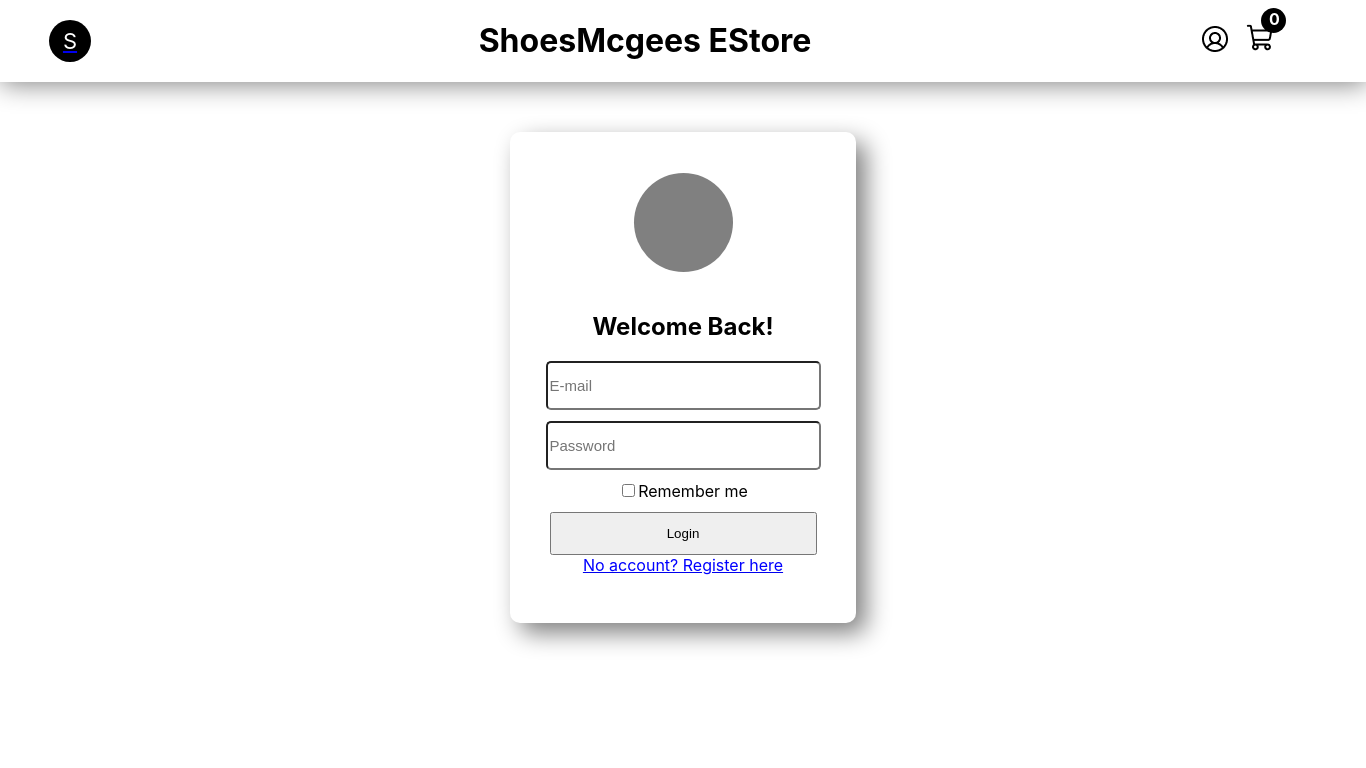
Operations on user accounts › User can navigate to registration page from loginPage
Click the text with test id "no-account" at (683, 565), box [583,555,783,575]
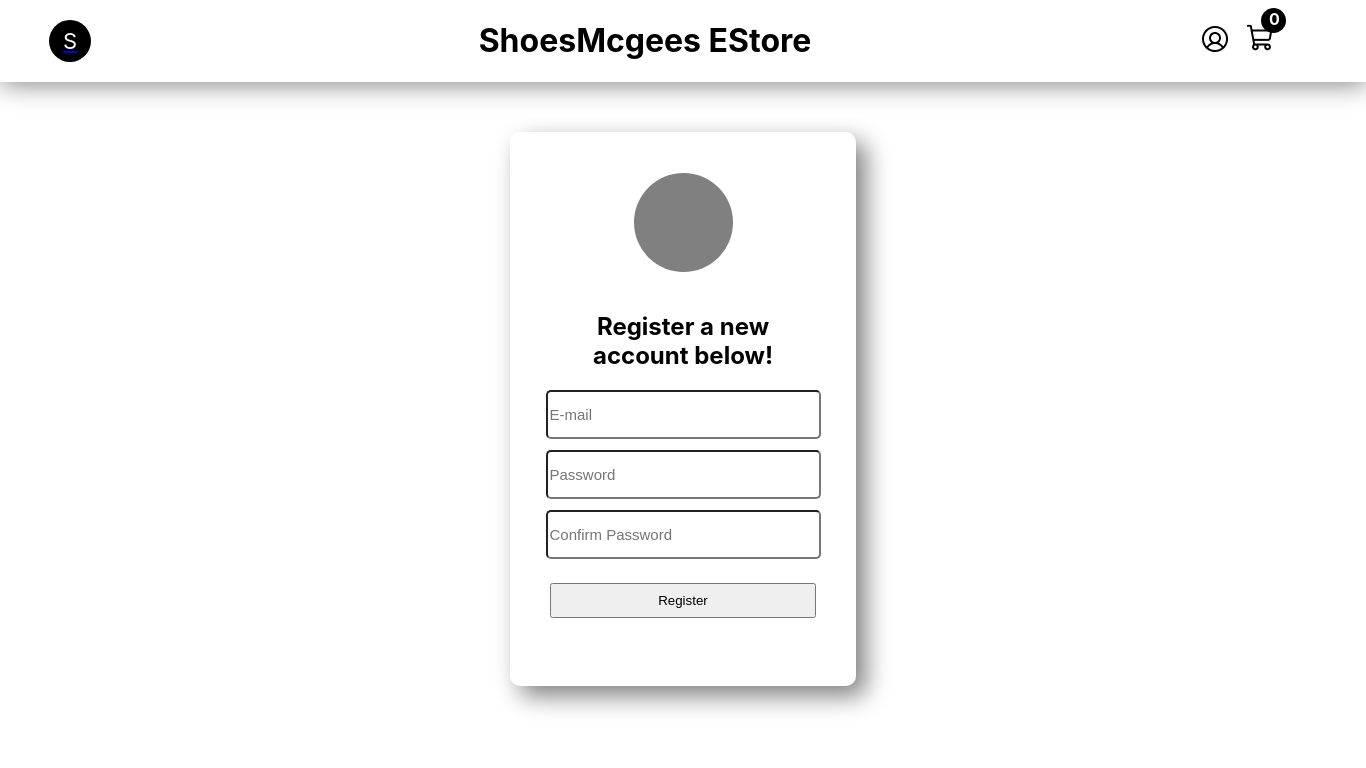
Now the heading "Register a new account below!" is shown, box [593,312,773,370]
